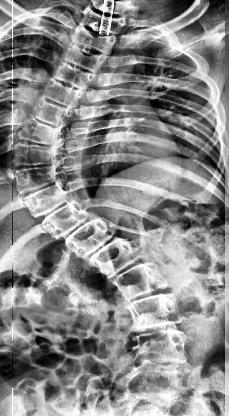Vertebrae: (132, 331, 192, 367), (110, 266, 174, 298), (44, 204, 91, 242), (128, 297, 186, 327), (63, 220, 113, 254), (89, 240, 140, 272), (13, 163, 60, 195), (24, 184, 68, 214), (20, 118, 64, 148), (74, 24, 116, 54), (12, 144, 60, 170), (30, 100, 72, 128), (82, 10, 126, 36), (55, 62, 94, 90), (44, 81, 82, 109), (67, 48, 106, 74)
